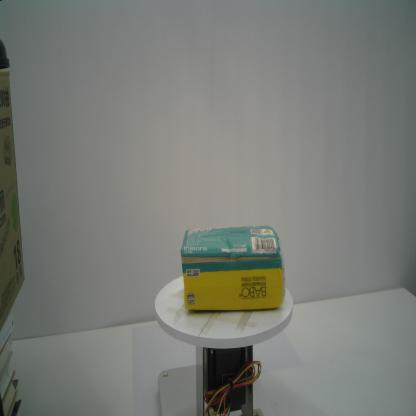Tissue: (179, 222, 284, 312)
